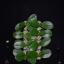leaf: (39, 22, 54, 30), (38, 49, 51, 58), (26, 14, 37, 24), (39, 37, 51, 46), (15, 22, 26, 31), (25, 55, 36, 64), (12, 31, 24, 39), (24, 32, 36, 40), (14, 40, 26, 48), (12, 48, 24, 56), (28, 19, 40, 27), (39, 30, 52, 37), (26, 22, 40, 28), (29, 43, 39, 51), (26, 51, 38, 57), (15, 54, 25, 61), (31, 28, 39, 36), (29, 51, 38, 57), (19, 22, 26, 28), (39, 30, 46, 36), (39, 52, 44, 56), (25, 55, 29, 59), (39, 42, 42, 45), (39, 23, 42, 26)
